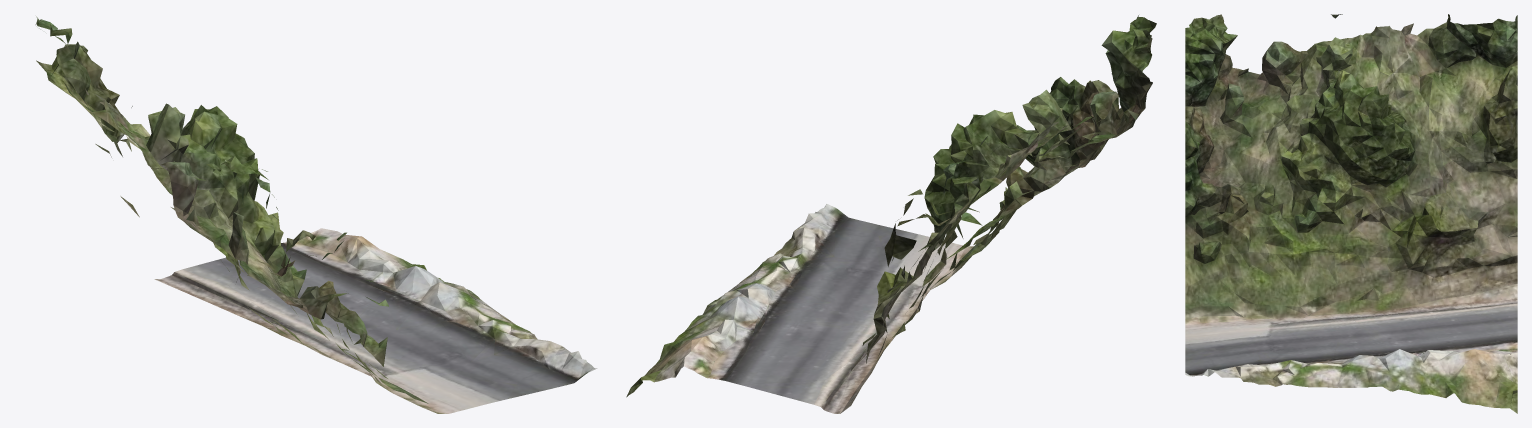
3 renders of one model, left to right at view 1: azimuth 30°, elevation 25°; view 2: azimuth 150°, elevation 25°; view 3: azimuth 270°, elevation 25°, orthographic. The views are drawn at different scales.
Bounding box in the file's own units: 11.8 × 10.17 × 11.8.
4 materials, 4 textured.
